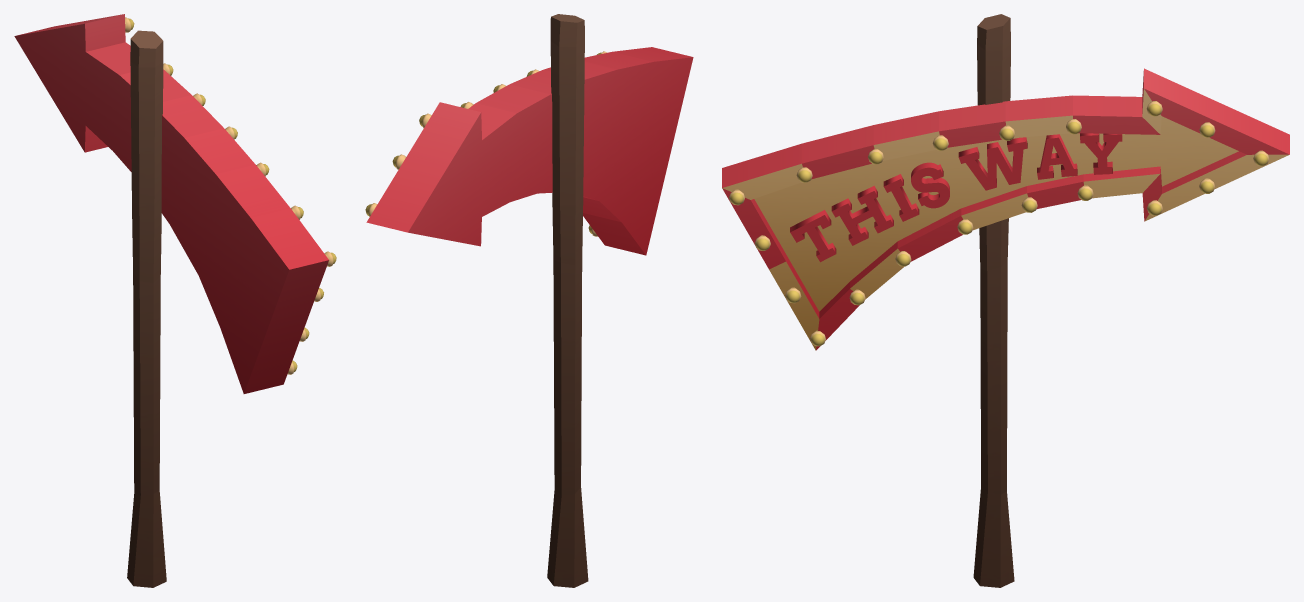
Rendered from this_way.fbx.
3 views of the same model, side by side, from view 1: azimuth 30°, elevation 25°; view 2: azimuth 150°, elevation 25°; view 3: azimuth 270°, elevation 25° (orthographic). The views are drawn at different scales.
Visible parts, largest first — view 1: slup1; view 2: slup1; view 3: slup1.
Part boxes in pixels (<box>): slup1: <box>14,14,336,587</box>; slup1: <box>365,14,693,587</box>; slup1: <box>722,14,1289,587</box>.
Size of the model in its own units: 26.82 by 171 by 157.
